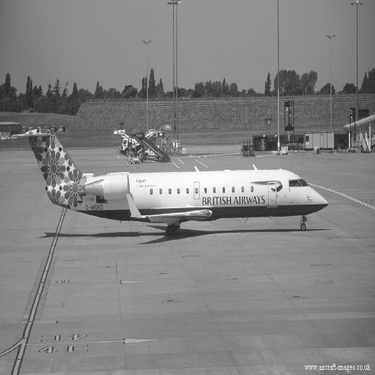airplane: (6, 115, 335, 243)
